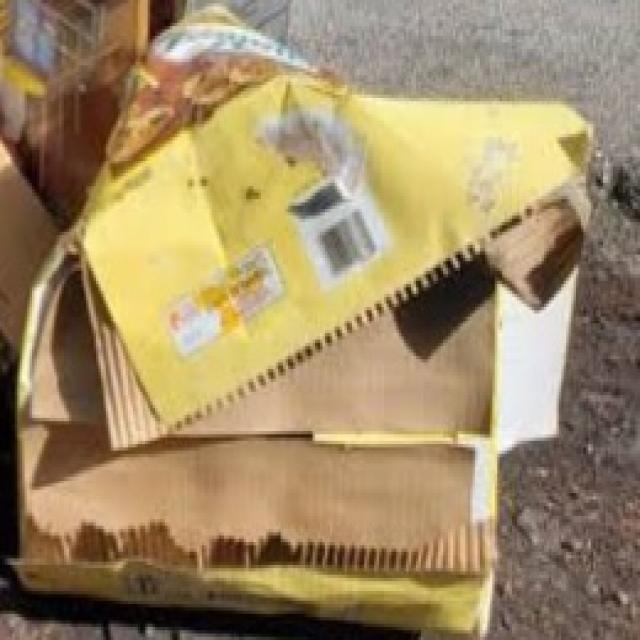cardboard: (4, 50, 606, 640)
